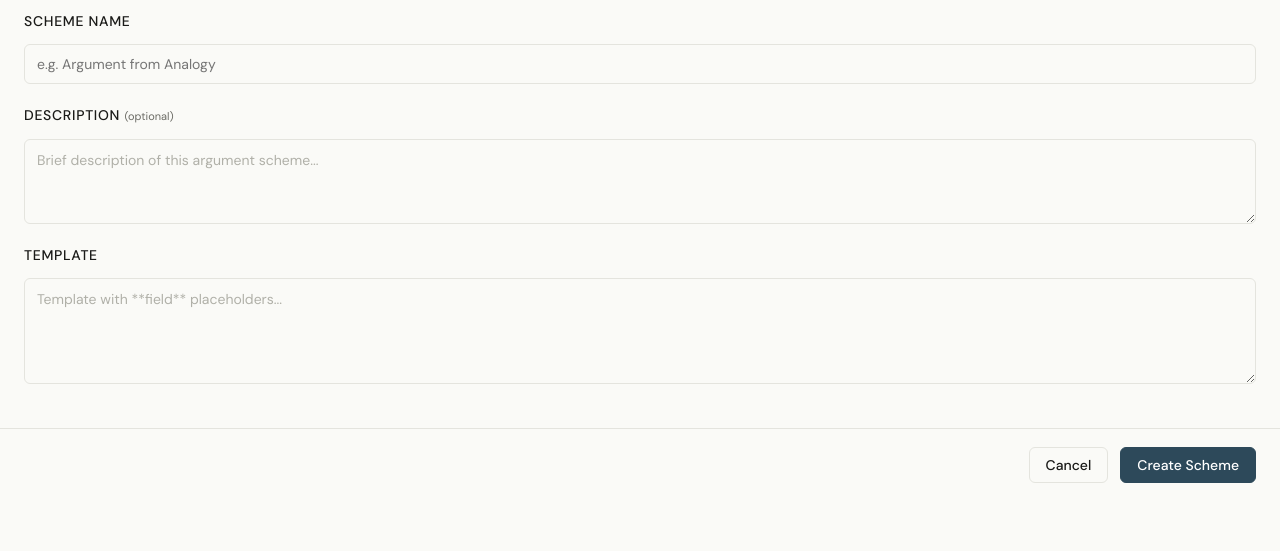
Test: AddSchemeForm › shows API error message on failed submission
Type "Duplicate" into the field labelled "Scheme name" at [640, 64], box x1=24 y1=44 x2=1256 y2=84
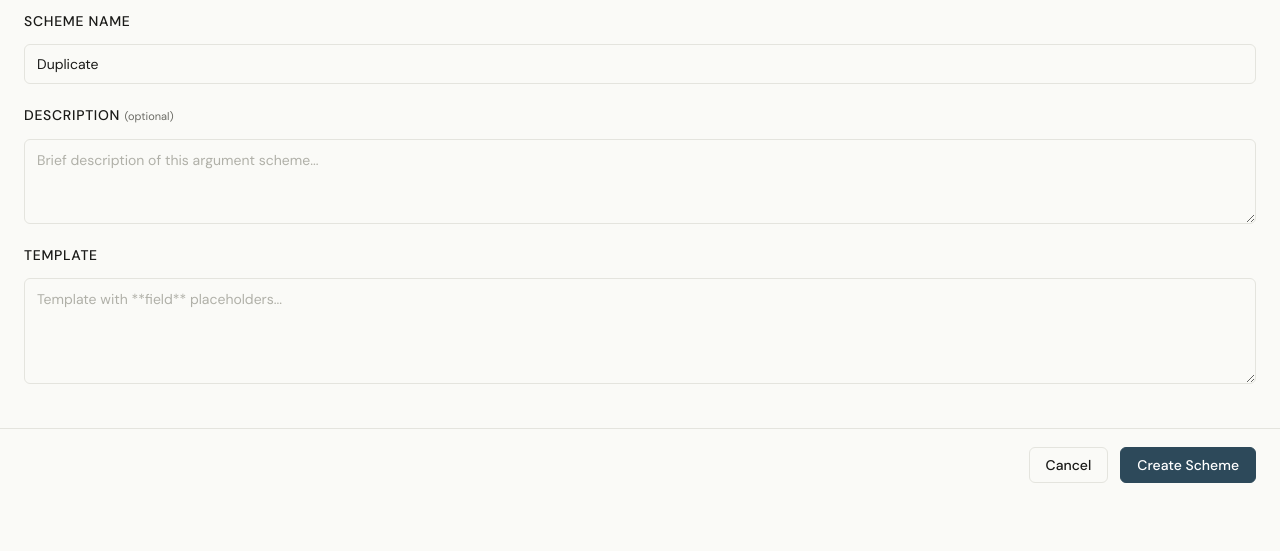
Type "**X**" into the text box labelled "Template" at [640, 331], box x1=24 y1=278 x2=1256 y2=384
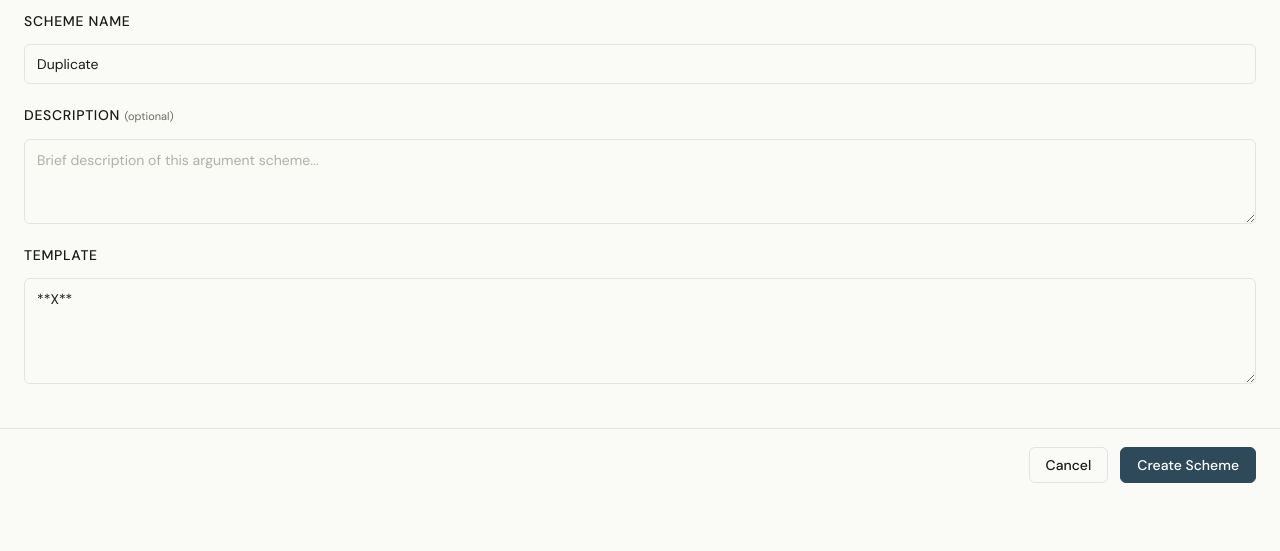
Click the button "Create Scheme" at [1188, 465], box x1=1120 y1=447 x2=1256 y2=483
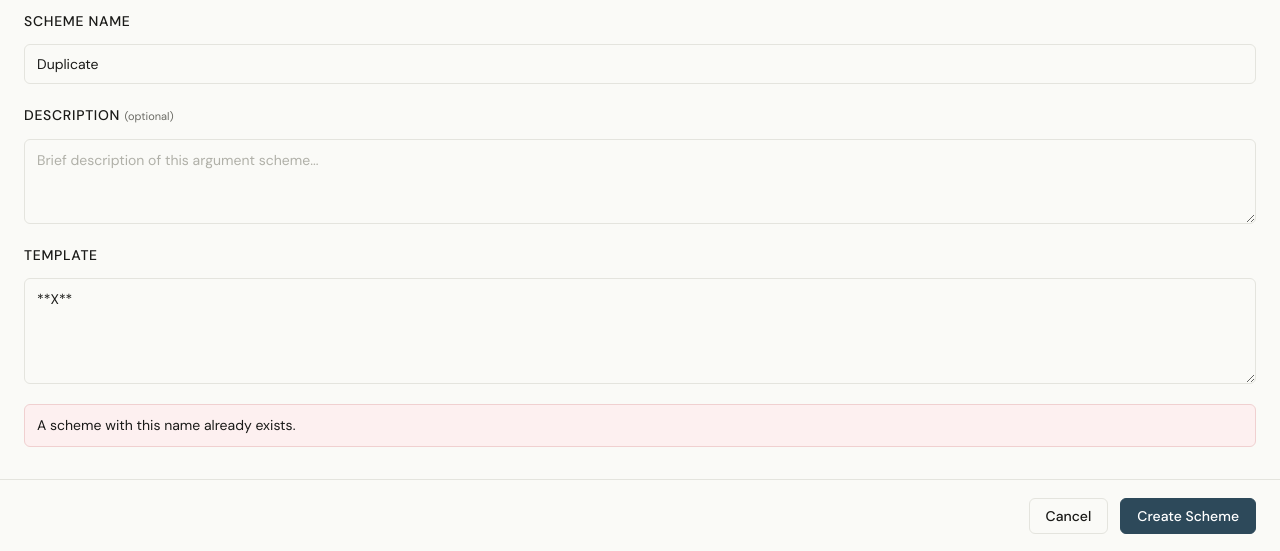
Expected: the text "A scheme with this name already exists." is shown, x1=24 y1=404 x2=1256 y2=447
